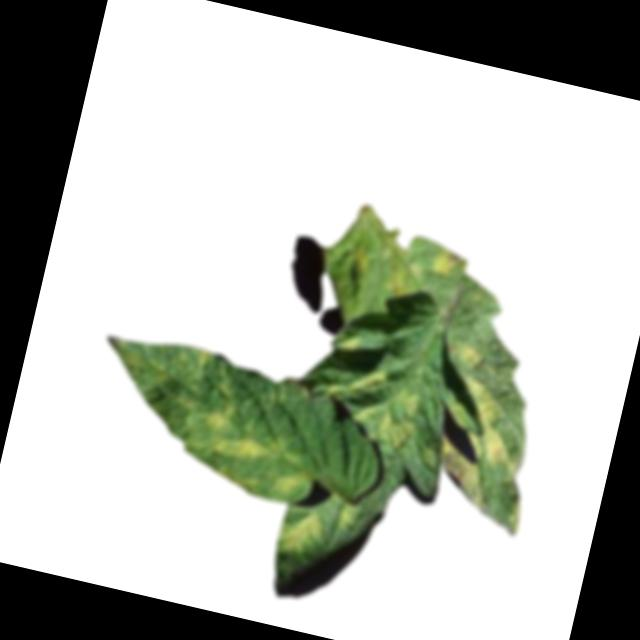Leaf_Mold: (311, 358, 432, 454), (191, 399, 285, 473), (429, 438, 494, 508), (272, 506, 327, 559), (454, 372, 507, 424), (472, 422, 516, 463), (267, 463, 310, 504), (425, 245, 470, 284), (447, 337, 492, 372)
